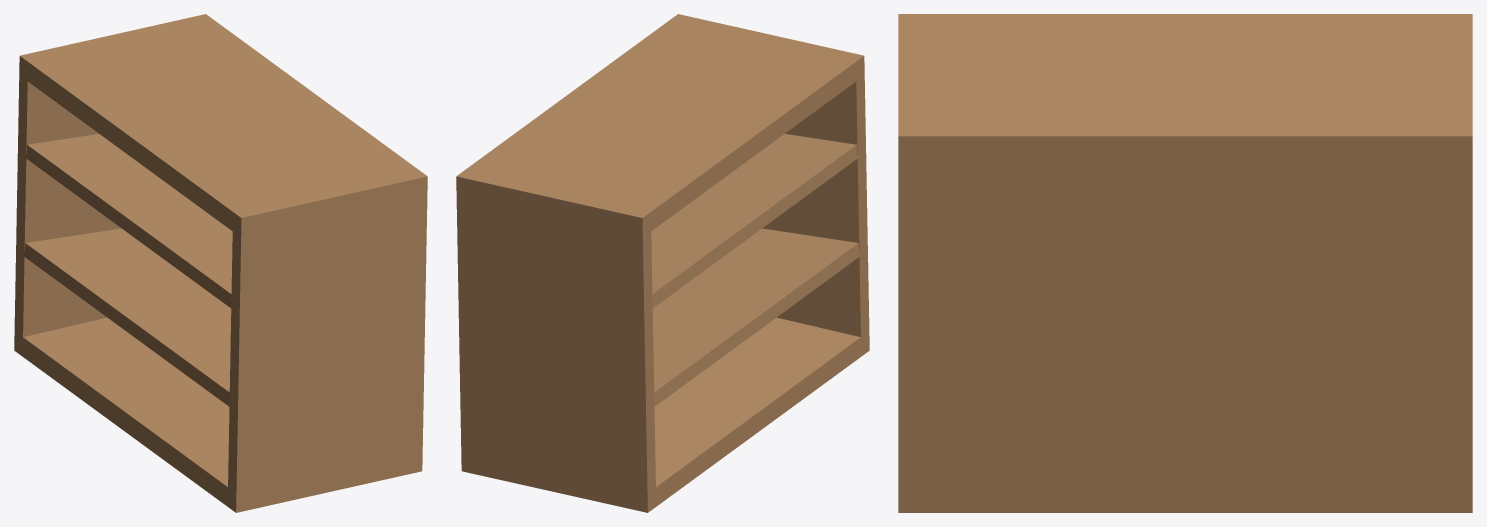
Rendered from Armario_suelo.fbx.
The picture shows the model from 3 angles, left to right: view 1: azimuth 30°, elevation 25°; view 2: azimuth 150°, elevation 25°; view 3: azimuth 270°, elevation 25°; orthographic projection. The views are drawn at different scales.
Parts seen in each view (by area): view 1: Cube.023; view 2: Cube.023; view 3: Cube.023.
Part boxes in pixels (box(x1,y1,x2,y2)): Cube.023: box(14, 14, 427, 512); Cube.023: box(456, 14, 869, 512); Cube.023: box(898, 14, 1472, 512).
Size of the model in its own units: 10.11 by 14.98 by 20.27.
